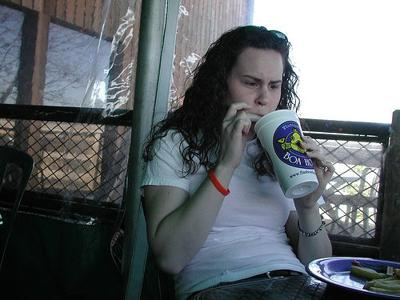person: (136, 22, 335, 300)
